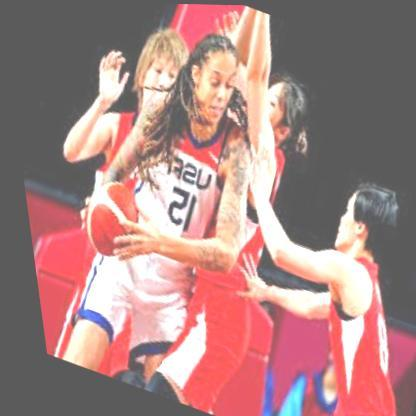basketball: (62, 172, 148, 264)
